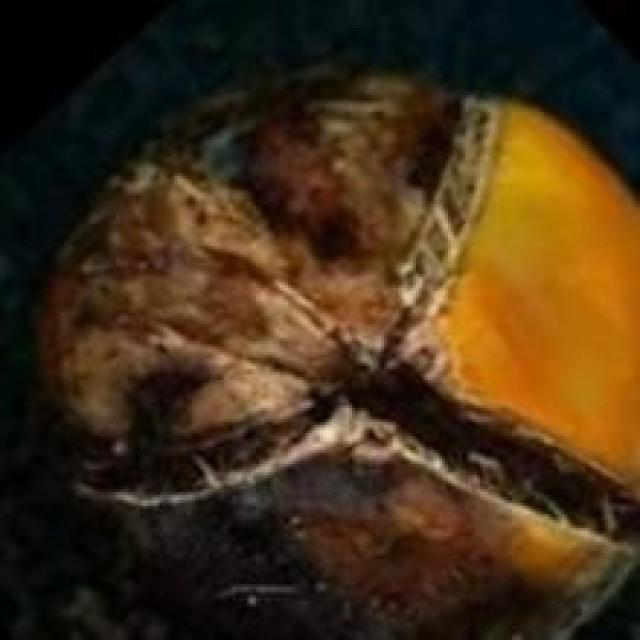damaged: (35, 67, 637, 637)
